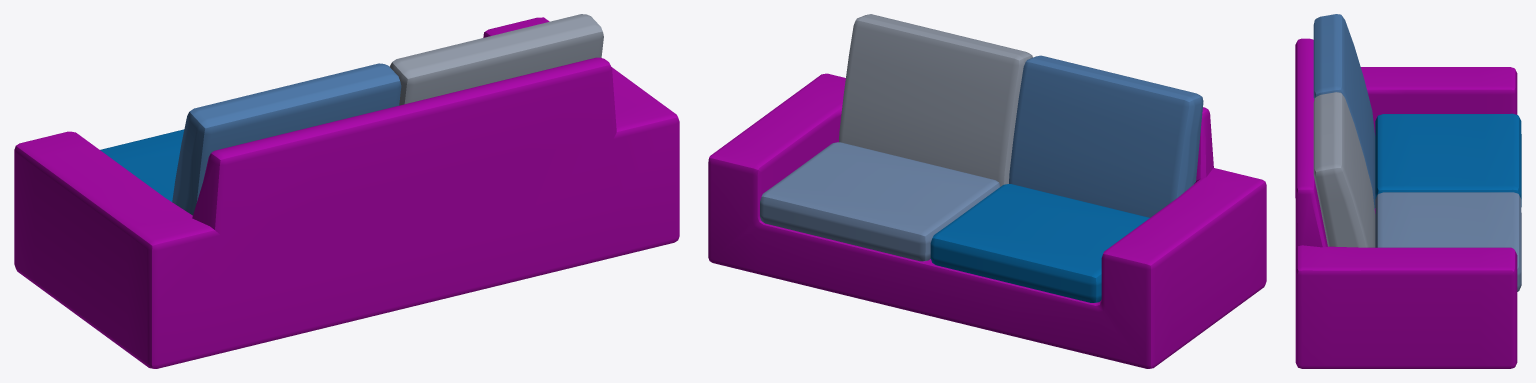
Rendered from PROP_sofa.fbx.
3 renders of one model, left to right at view 1: azimuth 30°, elevation 25°; view 2: azimuth 150°, elevation 25°; view 3: azimuth 270°, elevation 25°, orthographic. The views are drawn at different scales.
Visible parts, largest first — view 1: Estrutura, AlmofadaEncosto, AlmofadaEncosto2, AlmofadaAcento; view 2: Estrutura, AlmofadaEncosto, AlmofadaEncosto2, AlmofadaAcento2, AlmofadaAcento; view 3: Estrutura, AlmofadaAcento, AlmofadaAcento2, AlmofadaEncosto2, AlmofadaEncosto.
Boxes of the visible parts, x1=… form: Estrutura: x1=14, y1=17, x2=679, y2=368; AlmofadaEncosto: x1=172, y1=63, x2=401, y2=215; AlmofadaEncosto2: x1=389, y1=14, x2=603, y2=105; AlmofadaAcento: x1=100, y1=129, x2=184, y2=201; Estrutura: x1=708, y1=73, x2=1266, y2=368; AlmofadaEncosto: x1=1009, y1=55, x2=1203, y2=217; AlmofadaEncosto2: x1=839, y1=14, x2=1032, y2=186; AlmofadaAcento2: x1=760, y1=142, x2=1000, y2=261; AlmofadaAcento: x1=930, y1=184, x2=1149, y2=302; Estrutura: x1=1295, y1=38, x2=1517, y2=368; AlmofadaAcento: x1=1375, y1=113, x2=1521, y2=206; AlmofadaAcento2: x1=1375, y1=192, x2=1521, y2=291; AlmofadaEncosto2: x1=1313, y1=92, x2=1375, y2=247; AlmofadaEncosto: x1=1313, y1=14, x2=1375, y2=208.
Bounding box in the file's own units: 21.99 × 9 × 10.24.
